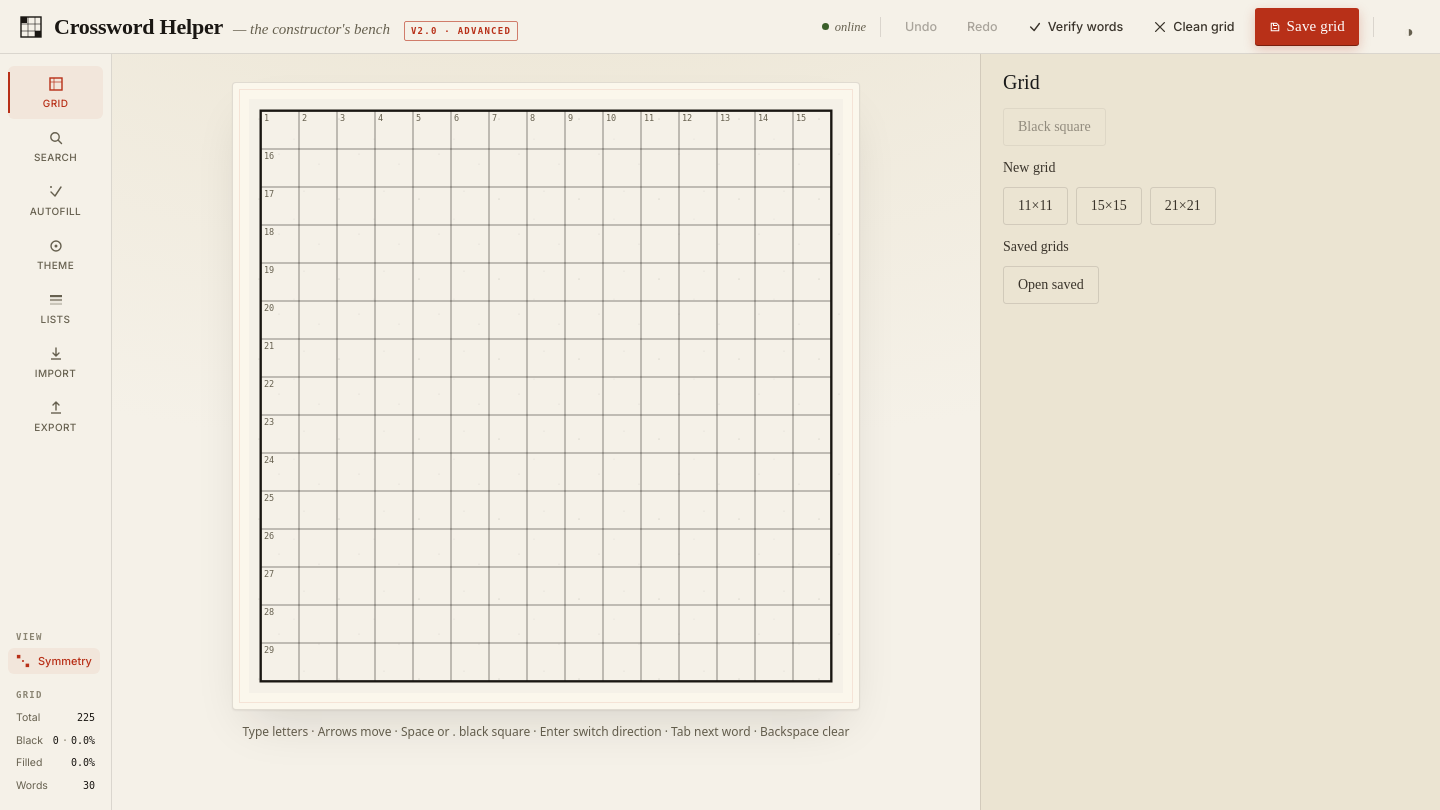
Test case: App handleThemeWordApplied (Task 6.16) › a reply that adds black squares says how many in the toast and returns the count
Click the button "Theme": (56, 254) left=8, top=228, right=103, bottom=281
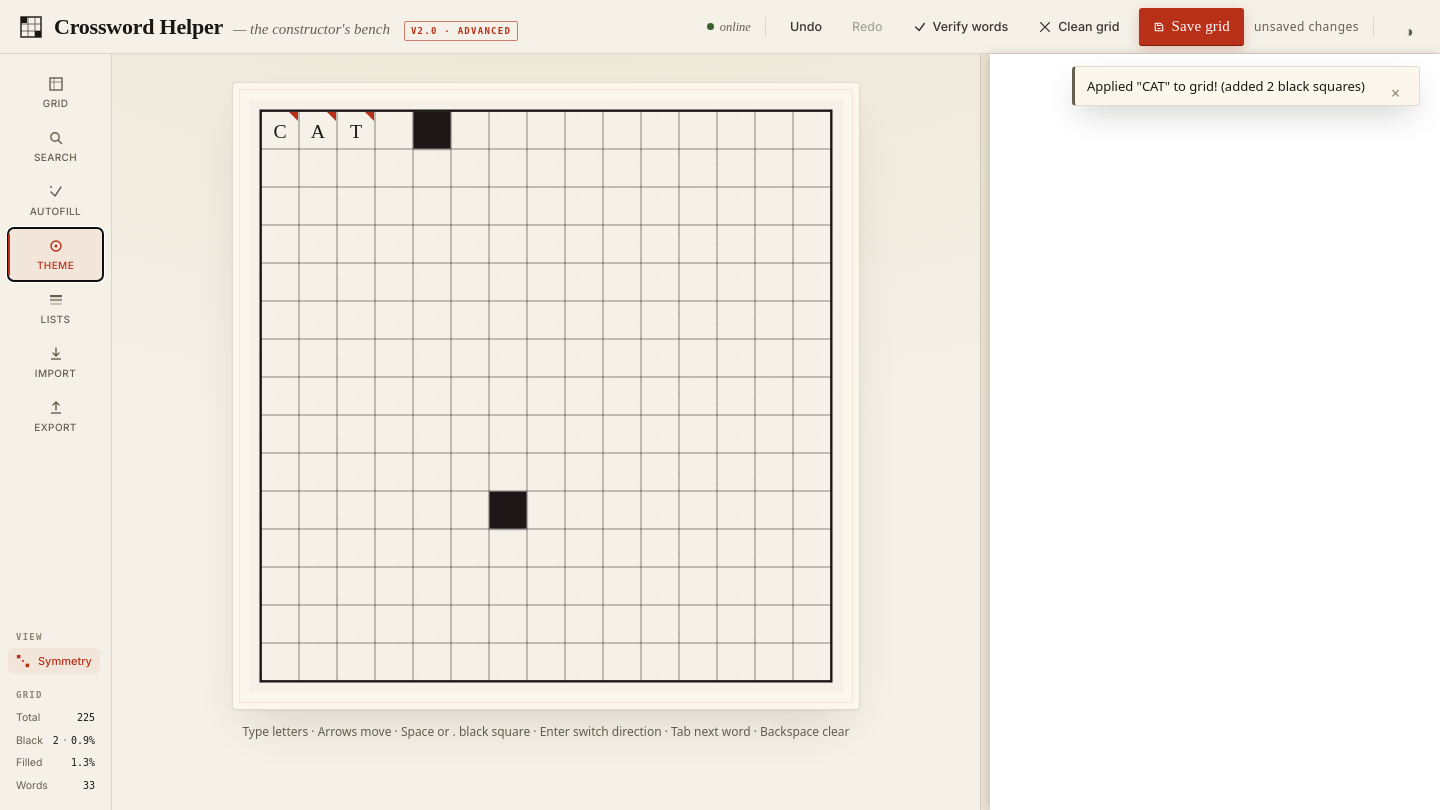
Expected: the text "Applied \"CAT\" to grid! (added 2 black squares)" is shown, left=1087, top=77, right=1365, bottom=95
